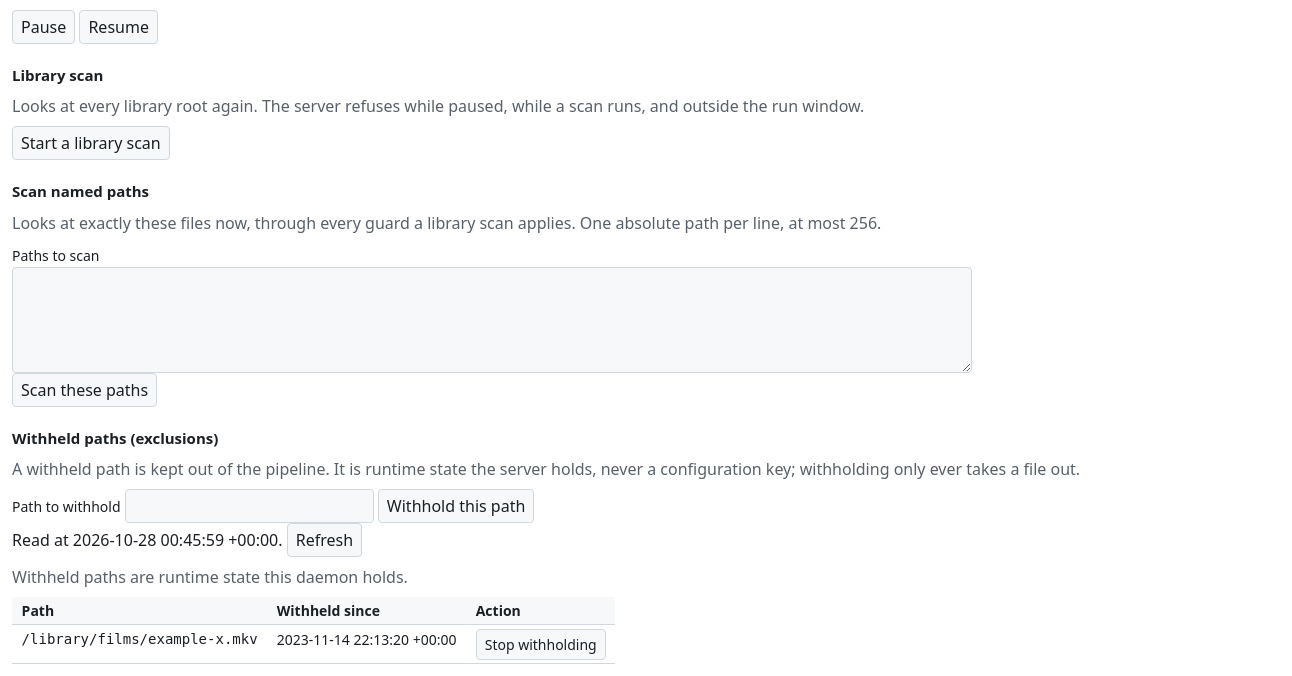
Test: controls › controls: removing an exclusion sends DELETE /api/exclusions with the path and shows the answer
(page scrolled)
Click the button with aria-label "Stop withholding /library/films/example-x.mkv" at (541,644), box [476,629,606,660]
(page scrolled)
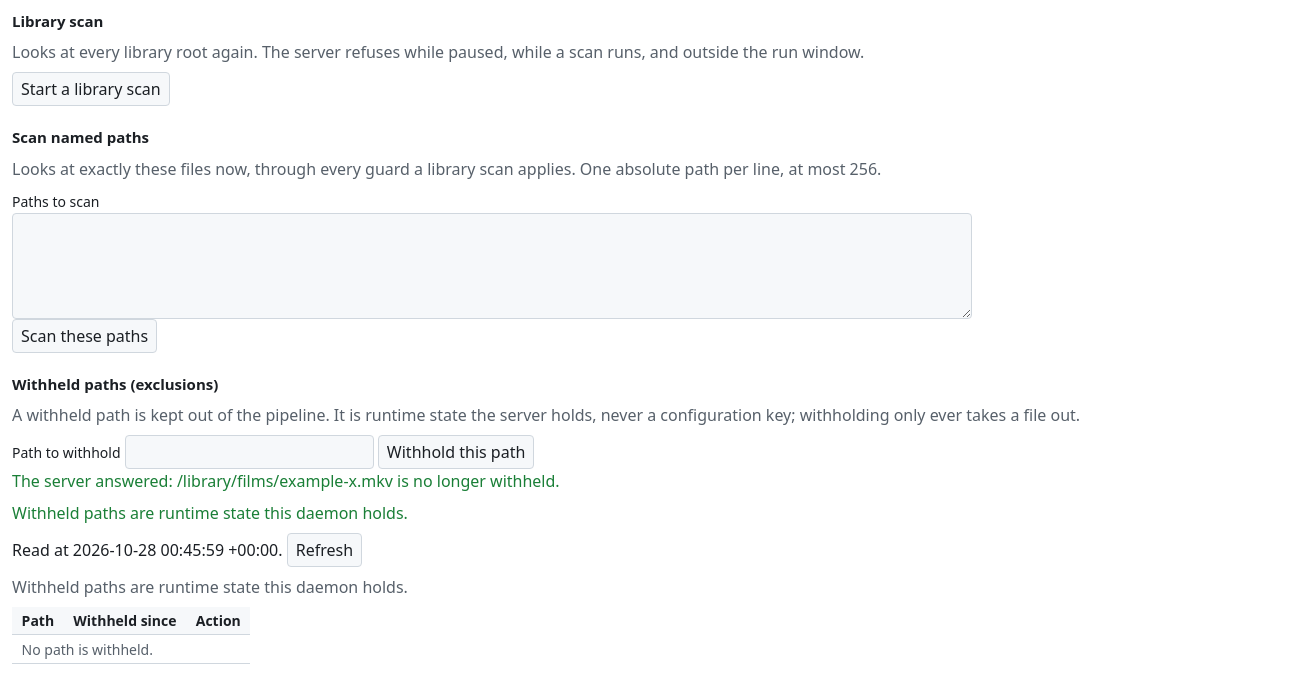
Check: the text "The server answered: /library/films/example-x.mkv is no longer withheld." is shown, box [12,470,560,492]
Check: the text "No path is withheld." is shown, box [12,635,250,663]
